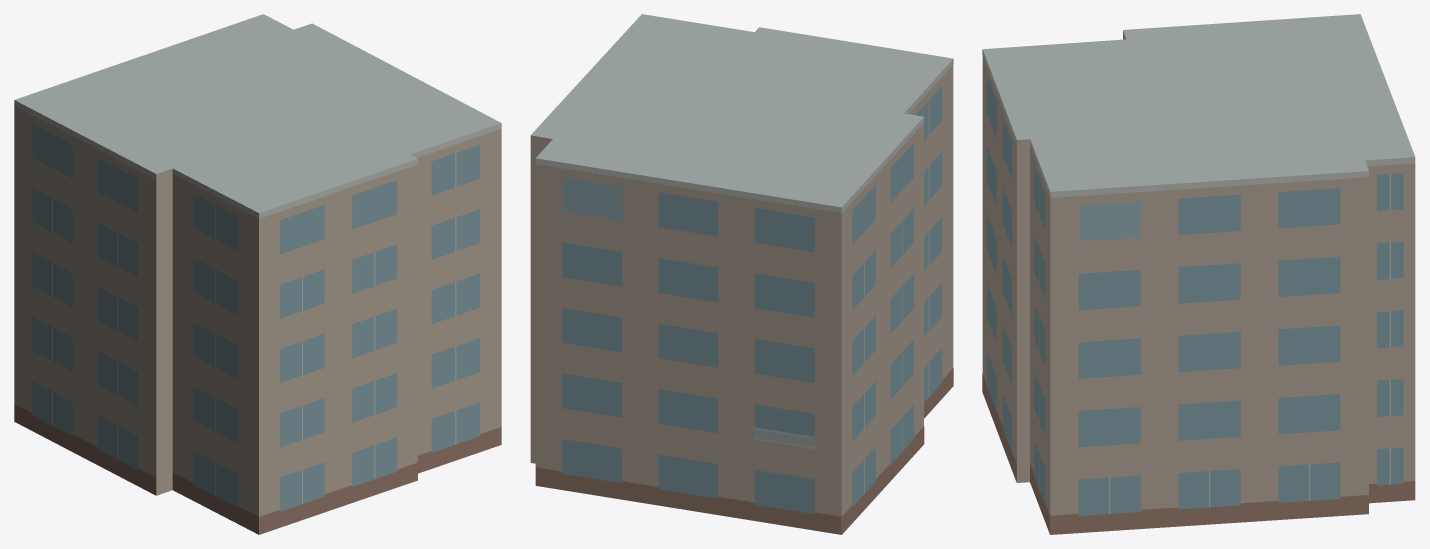
Rendered from survey-upis-32615394.glb.
3 renders of one model, left to right at view 1: azimuth 30°, elevation 25°; view 2: azimuth 150°, elevation 25°; view 3: azimuth 270°, elevation 25°, orthographic. The views are drawn at different scales.
Visible parts, largest first — view 1: survey-upis-32615394.tmp; view 2: survey-upis-32615394.tmp; view 3: survey-upis-32615394.tmp.
Part boxes in pixels (<box>): survey-upis-32615394.tmp: <box>14,14,501,534</box>; survey-upis-32615394.tmp: <box>530,14,953,534</box>; survey-upis-32615394.tmp: <box>982,14,1415,534</box>.
Size of the model in its own units: 15.25 by 13.7 by 15.68.
